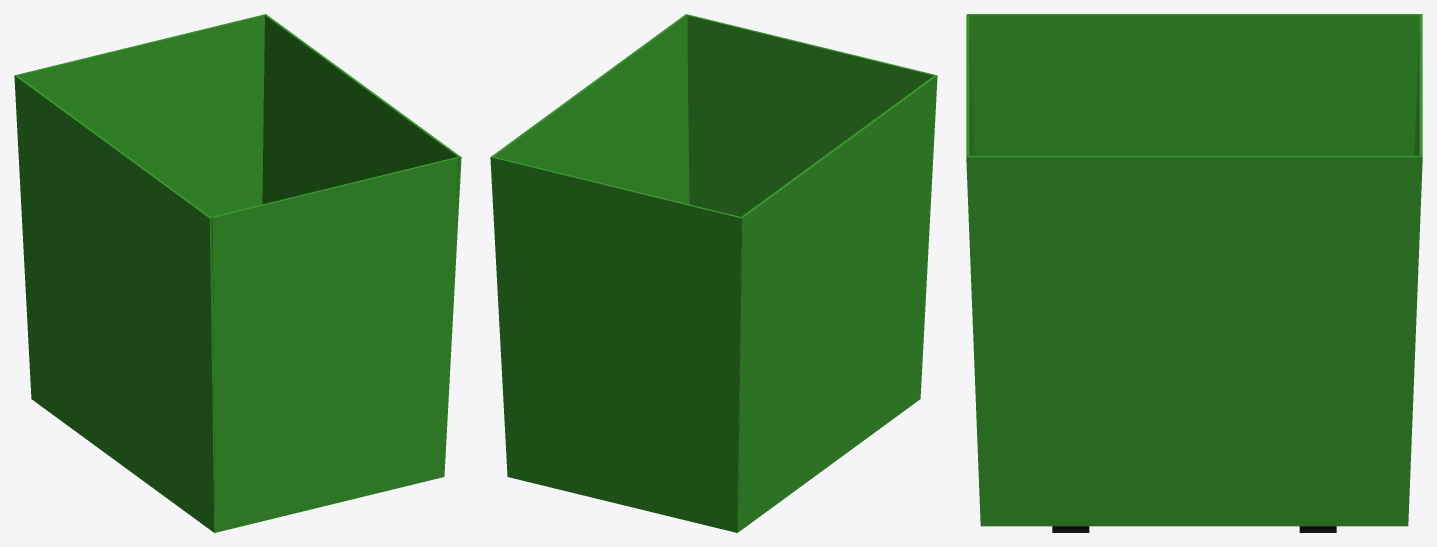
The model's file is green_bin.obj.
3 renders of one model, left to right at view 1: azimuth 30°, elevation 25°; view 2: azimuth 150°, elevation 25°; view 3: azimuth 270°, elevation 25°, orthographic. The views are drawn at different scales.
Visible parts, largest first — view 1: green_bin_Cylinder.003; view 2: green_bin_Cylinder.003; view 3: green_bin_Cylinder.003.
Boxes of the visible parts, x1,y1,x2,y2 form: green_bin_Cylinder.003: (14, 14, 461, 532); green_bin_Cylinder.003: (490, 14, 937, 532); green_bin_Cylinder.003: (966, 14, 1422, 532).
Size of the model in its own units: 0.2742 by 0.3645 by 0.3692.
